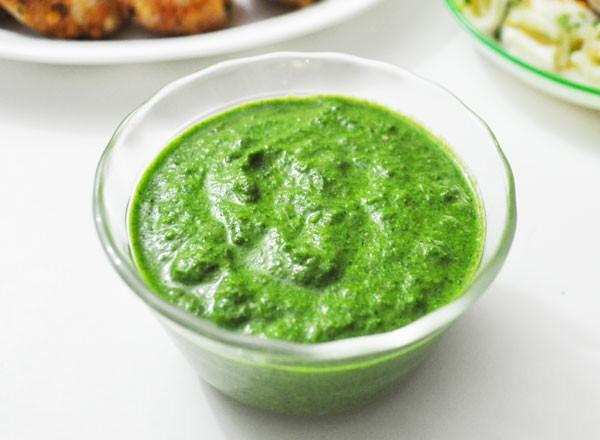GreenChutney: (129, 94, 478, 341)
